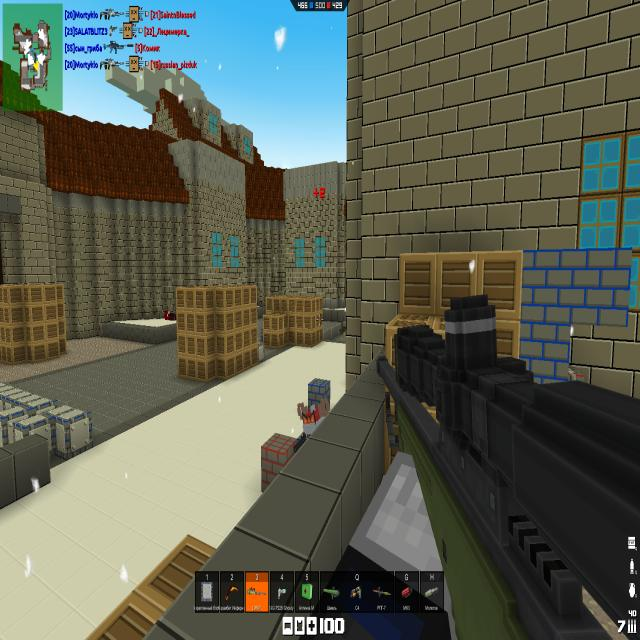player: (293, 383, 329, 446), (164, 309, 177, 321)
